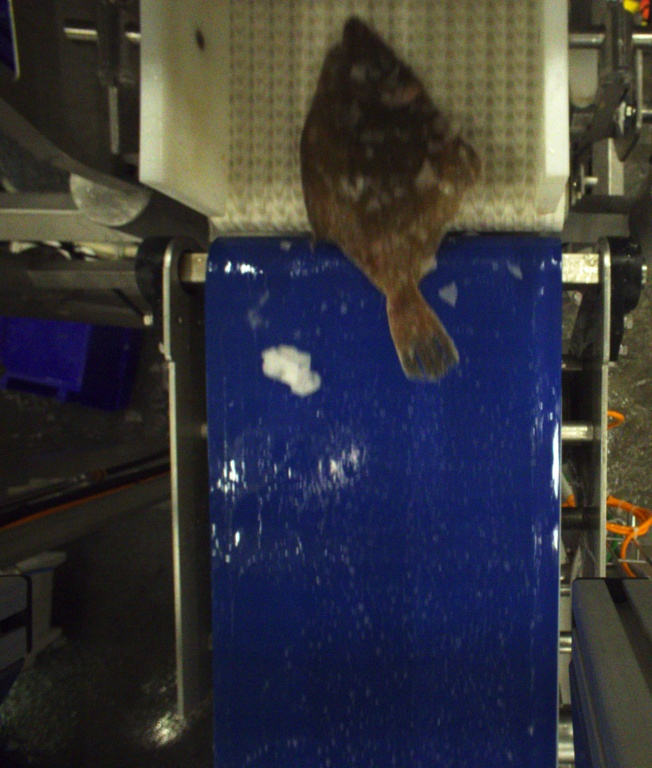PLE: (298, 14, 483, 381)
